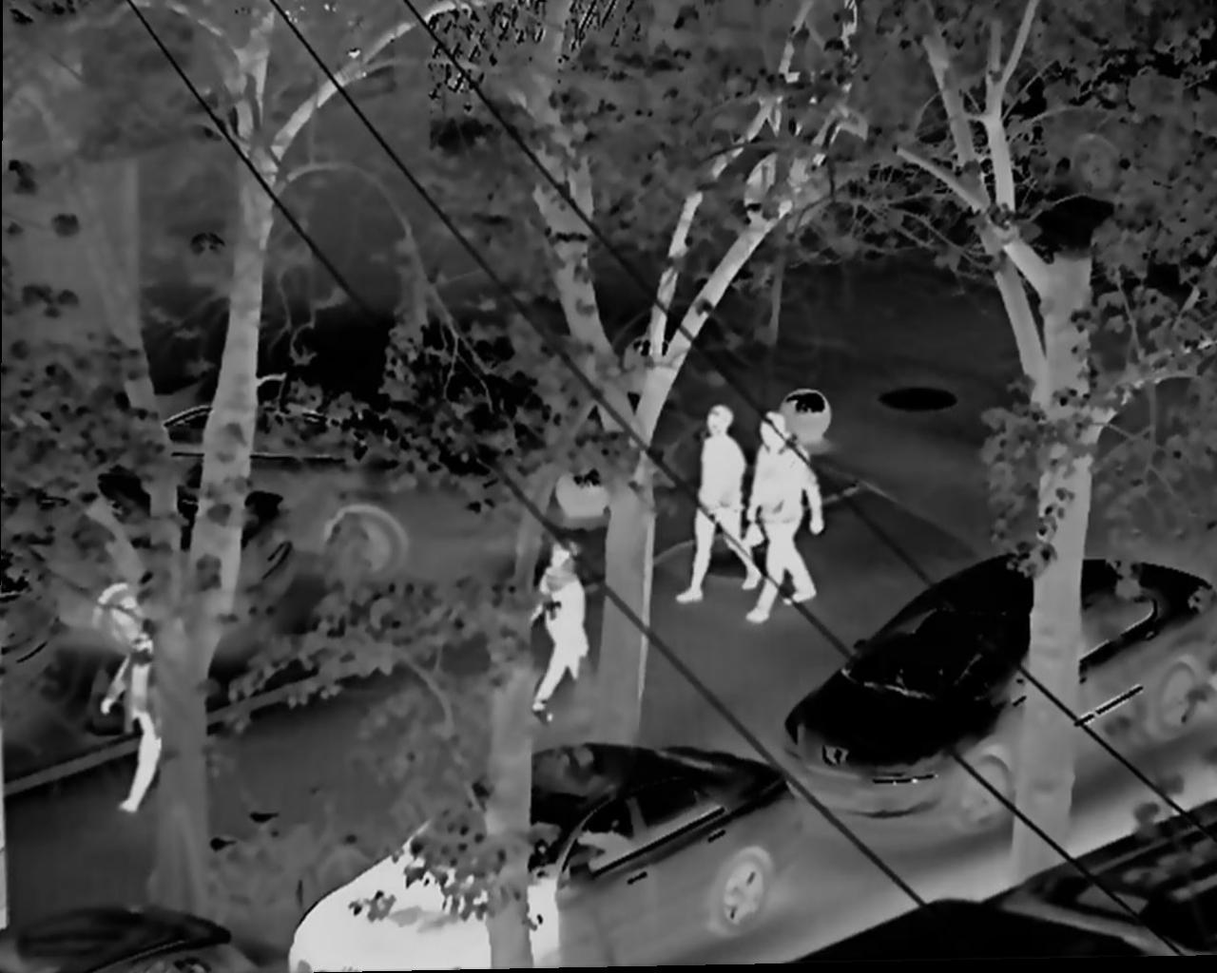person: (88, 611, 189, 834), (675, 403, 769, 611), (743, 413, 830, 630), (536, 535, 597, 737)
